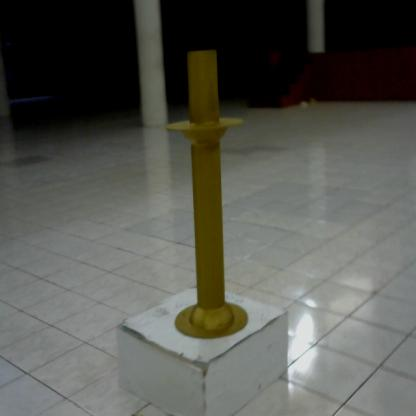pole: (163, 46, 259, 344)
